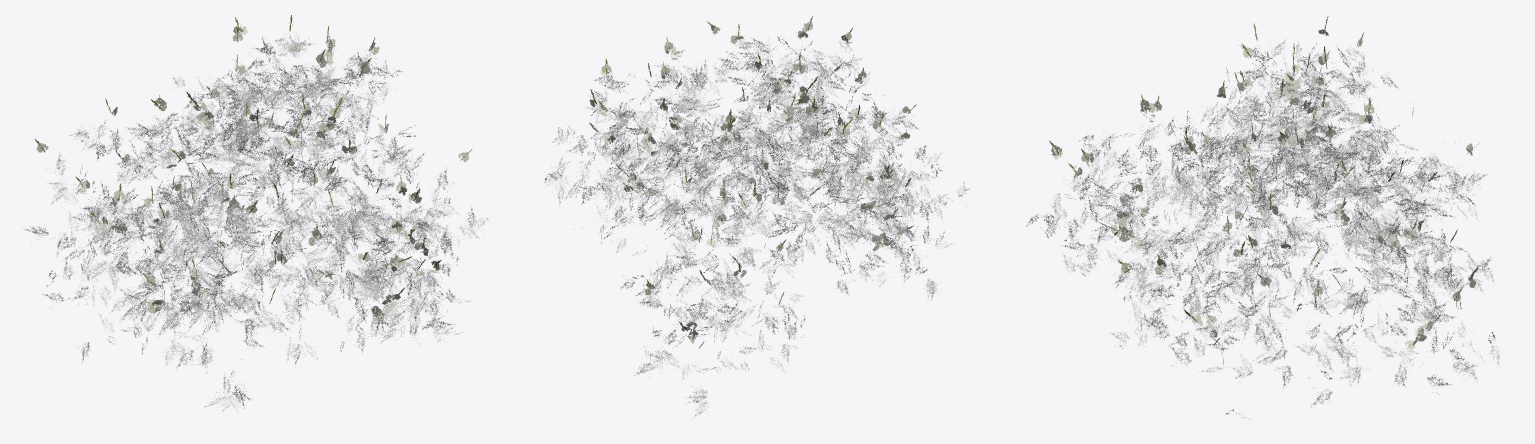
The model's file is MESH_OC56_MelaleucaAlternifolia_M_LOD1.fbx.
3 views of the same model, side by side, from view 1: azimuth 30°, elevation 25°; view 2: azimuth 150°, elevation 25°; view 3: azimuth 270°, elevation 25° (orthographic). The views are drawn at different scales.
Visible parts, largest first — view 1: MI_LOD1_001, MI_LOD1_003, MI_LOD1_002; view 2: MI_LOD1_001, MI_LOD1_003, MI_LOD1_002; view 3: MI_LOD1_001, MI_LOD1_003, MI_LOD1_002.
Part boxes in pixels (x1,y1,x2,y2): MI_LOD1_001: (24,29,488,413); MI_LOD1_003: (36,26,468,319); MI_LOD1_002: (35,15,472,327); MI_LOD1_001: (544,32,969,418); MI_LOD1_003: (589,21,910,348); MI_LOD1_002: (589,16,916,331); MI_LOD1_001: (1026,40,1507,419); MI_LOD1_003: (1051,29,1476,349); MI_LOD1_002: (1049,16,1479,328).
Size of what is drawn, in the model's own units: 461 by 392 by 507.
